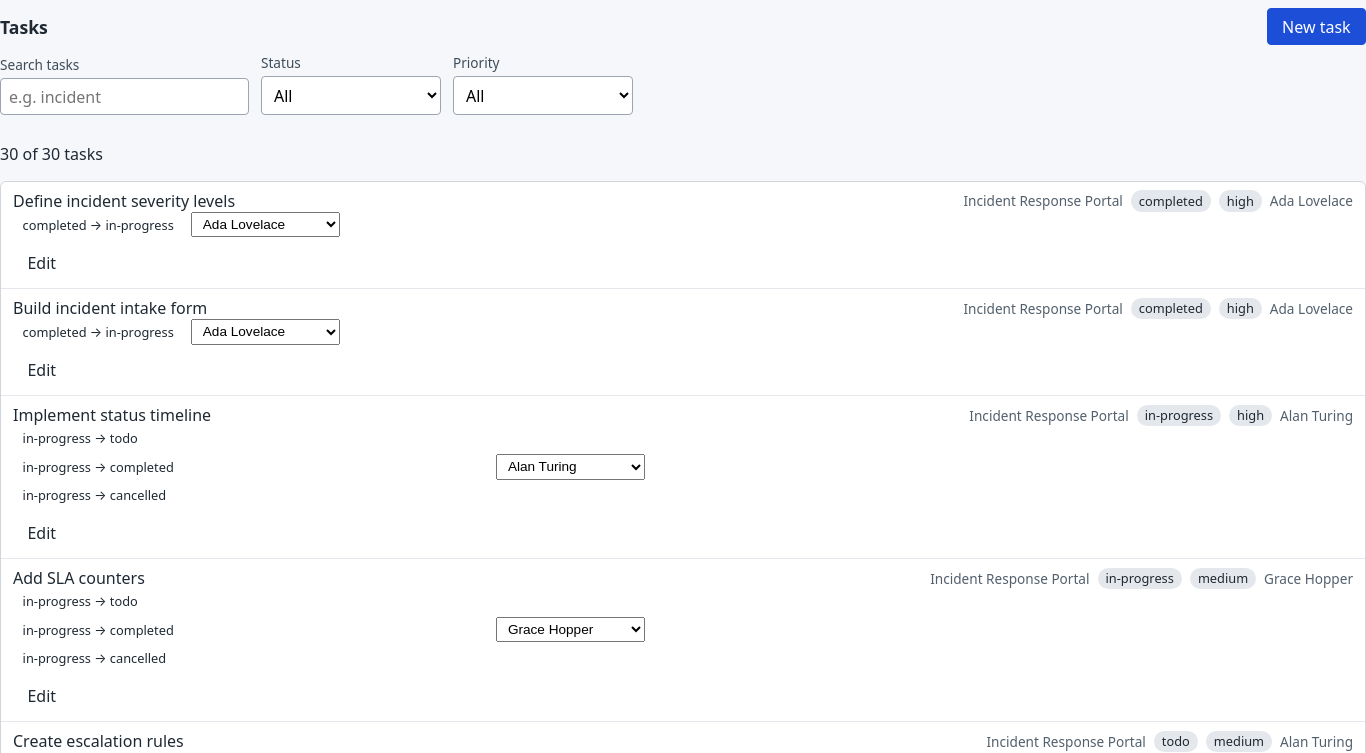
TasksPage — list (TSK-LIST) › shows an explicit empty state when filters have no matches (TSK-LIST-3)
Type "zzzz" into the search field labelled "Search tasks" at (124, 97), box x1=0 y1=78 x2=249 y2=115
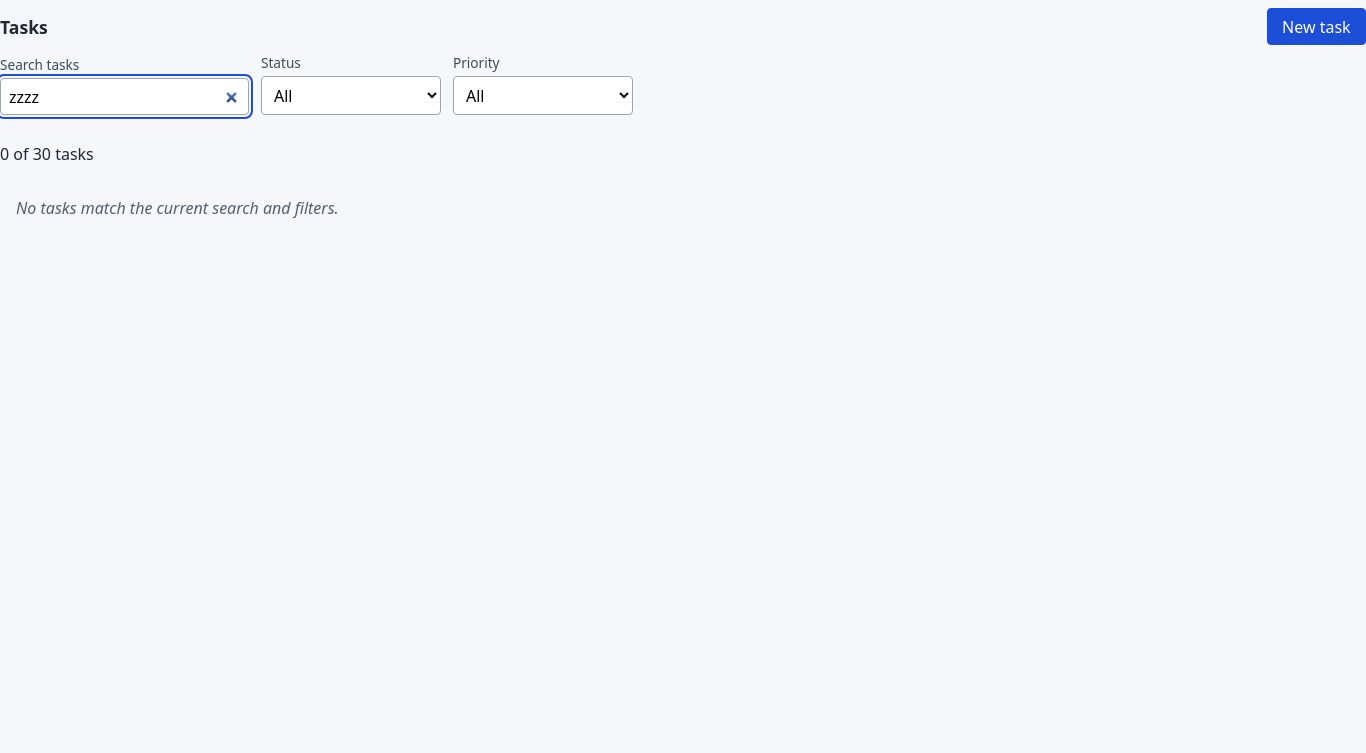
Expected: the text "0 of 30 tasks" is shown, x1=0 y1=143 x2=94 y2=165
Expected: the text "No tasks match the current search and filters." is shown, x1=16 y1=197 x2=339 y2=219
